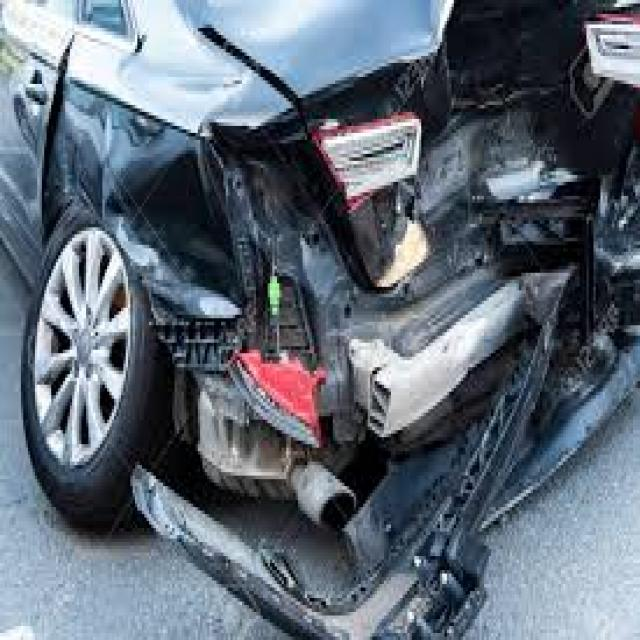severe: (108, 46, 603, 591)
